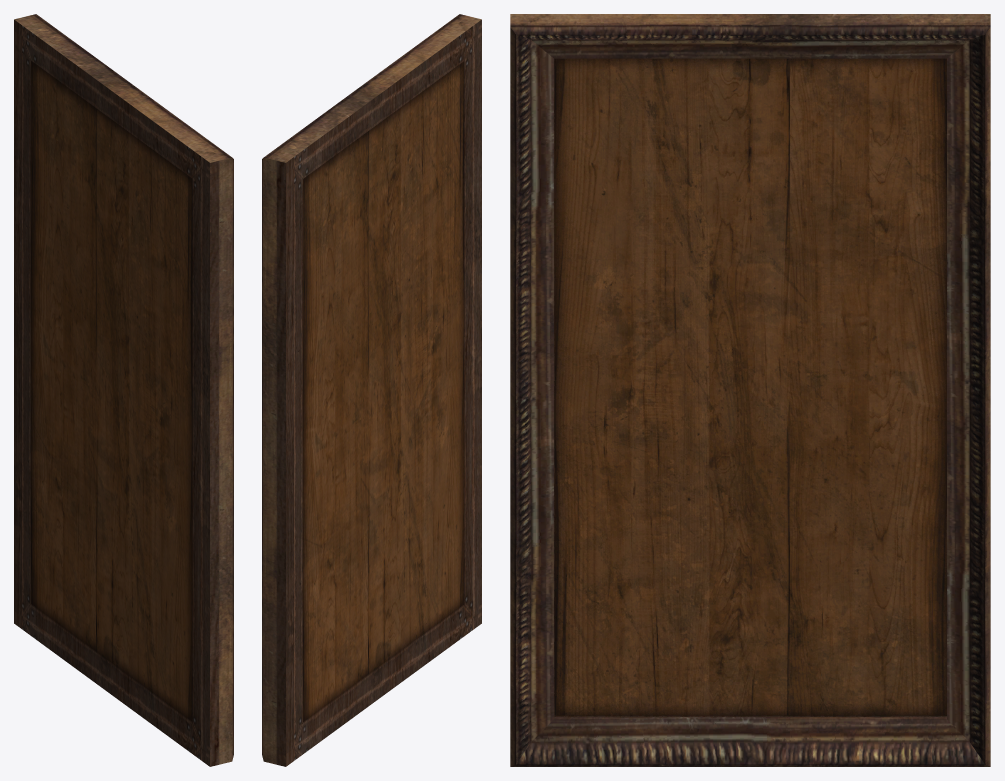
File: empty_frame.dae
3 renders of one model, left to right at view 1: azimuth 30°, elevation 25°; view 2: azimuth 150°, elevation 25°; view 3: azimuth 270°, elevation 25°, orthographic. The views are drawn at different scales.
Parts seen in each view (by area): view 1: painting_frame04; view 2: painting_frame04; view 3: painting_frame04.
Boxes of the visible parts, bbox=[...] form: painting_frame04: bbox=[14, 14, 233, 766]; painting_frame04: bbox=[262, 14, 481, 766]; painting_frame04: bbox=[510, 14, 990, 766].
Bounding box in the file's own units: 0.308 × 6.8 × 4.
